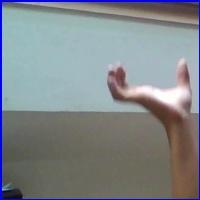space: (99, 56, 194, 120)
